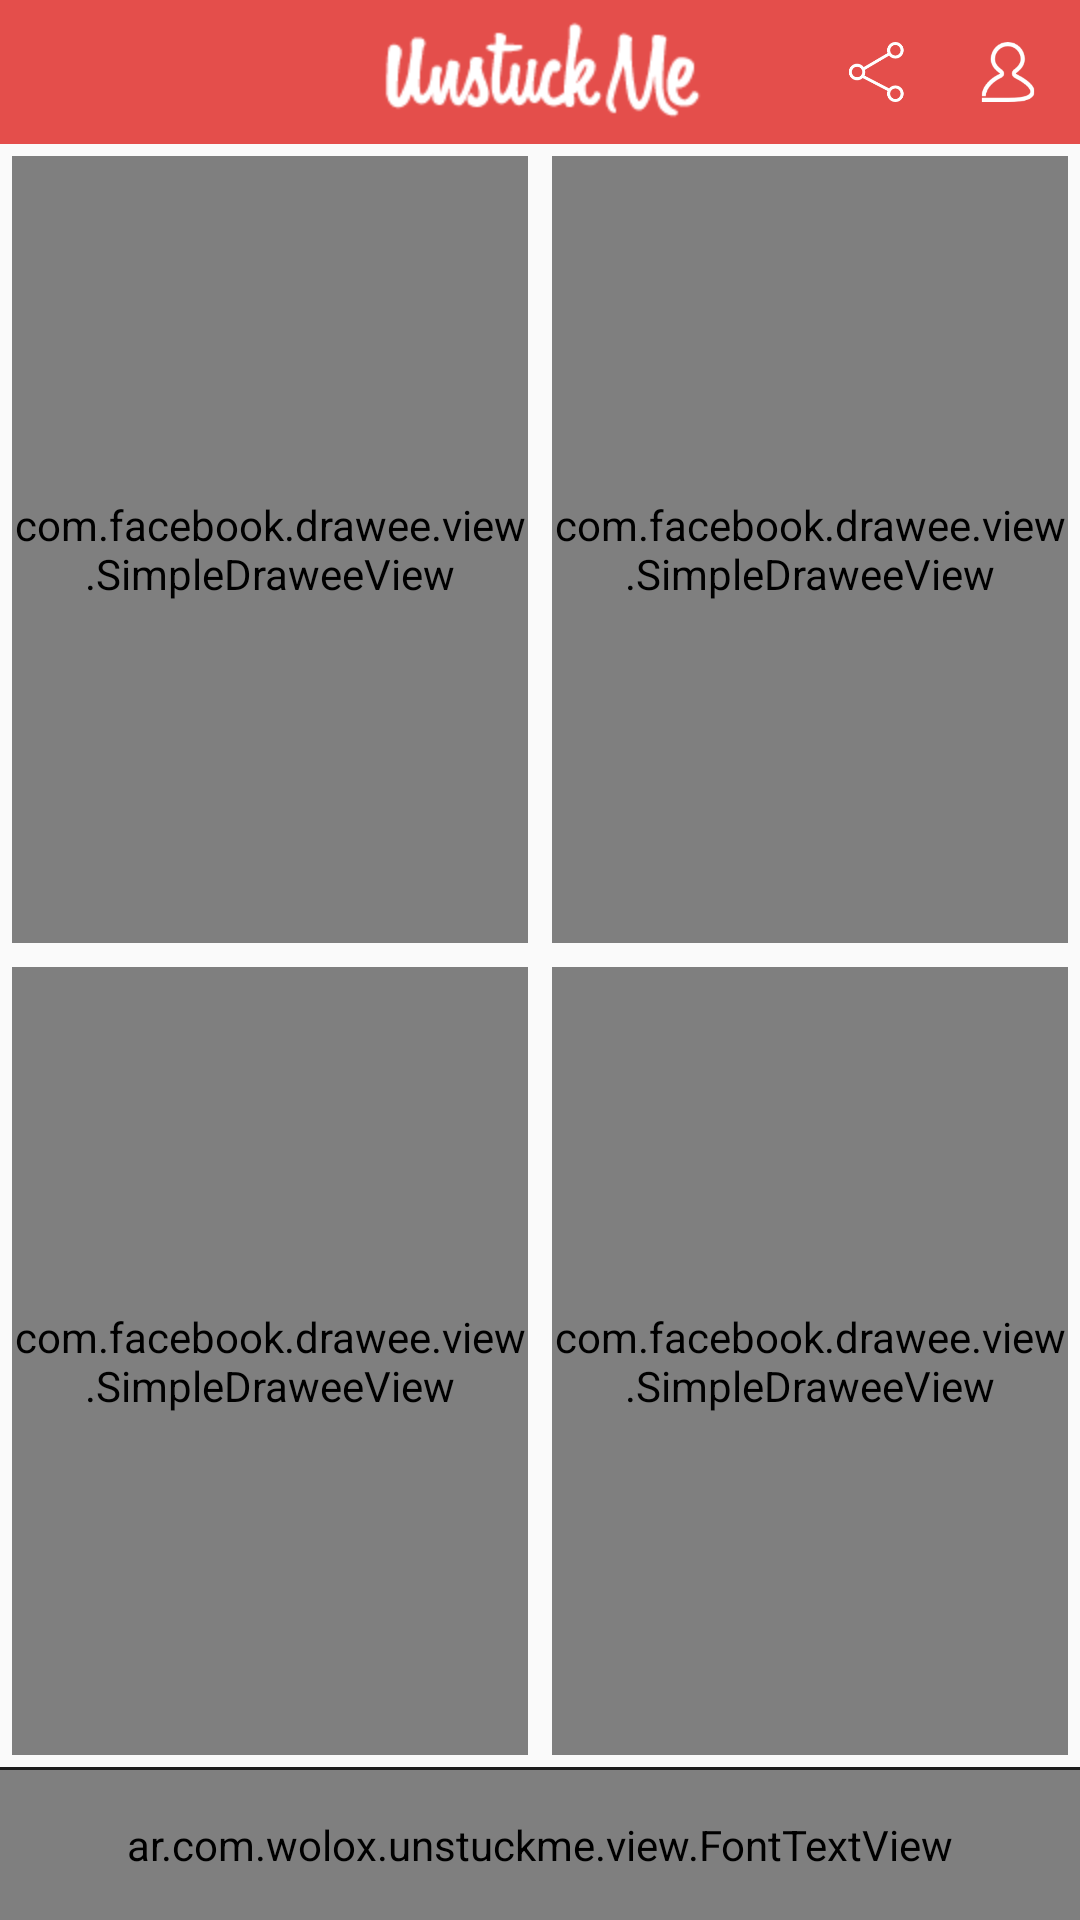

Point at icon controls on the screen. Image size 1080w x 1920h, points as [x,y].
profile: [1008,72]
share: [876,72]
